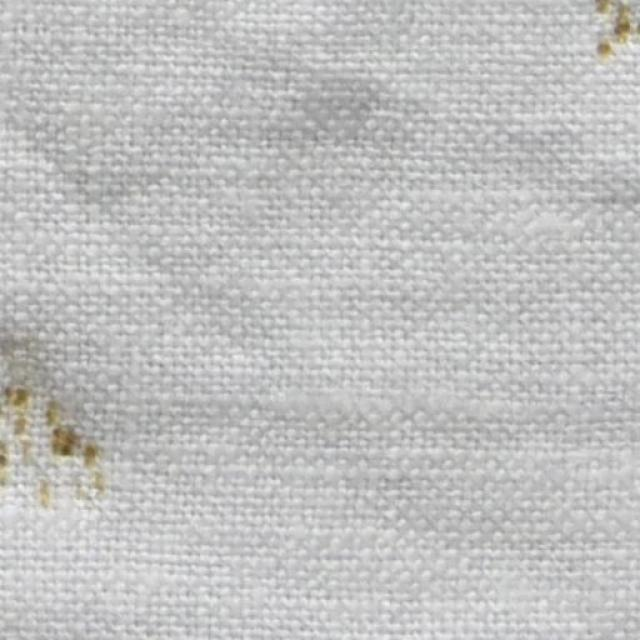Stain: (582, 0, 639, 54)
